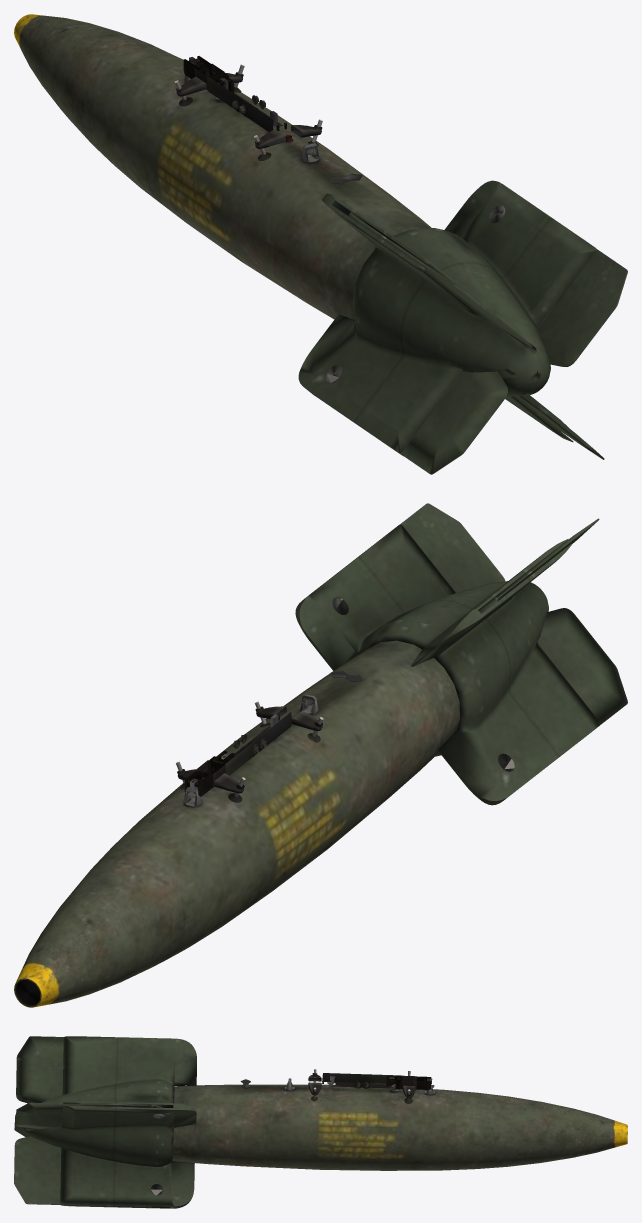
Rendered from w_gbu31.glb.
3 views of the same model, one above another, from view 1: azimuth 30°, elevation 25°; view 2: azimuth 150°, elevation 25°; view 3: azimuth 270°, elevation 25° (orthographic). The views are drawn at different scales.
Visible parts, largest first — view 1: body|0614f713-9a1c-4c8a-b269-7d20187be326, body|858abfb1-5ff7-4558-8698-b8aa6858c3c6, body|208640f2-de81-4635-bf5d-a0783a4cf650; view 2: body|858abfb1-5ff7-4558-8698-b8aa6858c3c6, body|0614f713-9a1c-4c8a-b269-7d20187be326, body|208640f2-de81-4635-bf5d-a0783a4cf650; view 3: body|858abfb1-5ff7-4558-8698-b8aa6858c3c6, body|0614f713-9a1c-4c8a-b269-7d20187be326, body|208640f2-de81-4635-bf5d-a0783a4cf650.
Boxes of the visible parts, left/top/right/bottom form: body|0614f713-9a1c-4c8a-b269-7d20187be326: left=298, top=180, right=627, bottom=474; body|858abfb1-5ff7-4558-8698-b8aa6858c3c6: left=14, top=14, right=431, bottom=319; body|208640f2-de81-4635-bf5d-a0783a4cf650: left=174, top=56, right=362, bottom=184; body|858abfb1-5ff7-4558-8698-b8aa6858c3c6: left=14, top=640, right=459, bottom=1007; body|0614f713-9a1c-4c8a-b269-7d20187be326: left=295, top=503, right=627, bottom=805; body|208640f2-de81-4635-bf5d-a0783a4cf650: left=176, top=670, right=362, bottom=802; body|858abfb1-5ff7-4558-8698-b8aa6858c3c6: left=172, top=1078, right=627, bottom=1170; body|0614f713-9a1c-4c8a-b269-7d20187be326: left=14, top=1036, right=196, bottom=1208; body|208640f2-de81-4635-bf5d-a0783a4cf650: left=240, top=1069, right=434, bottom=1103.
Bounding box in the file's own units: 0.7692 × 0.783 × 3.31.
Materials: 4 (3 with a texture image).
